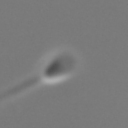normal: (1, 74, 42, 113)
